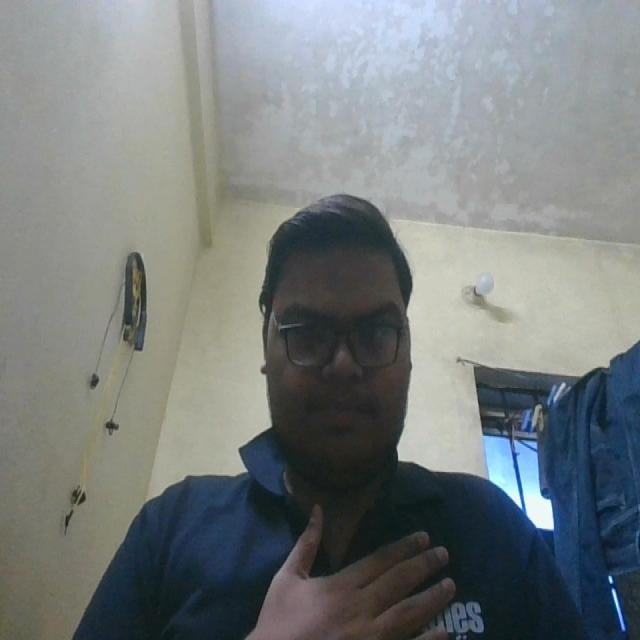Please: (252, 499, 453, 640)
